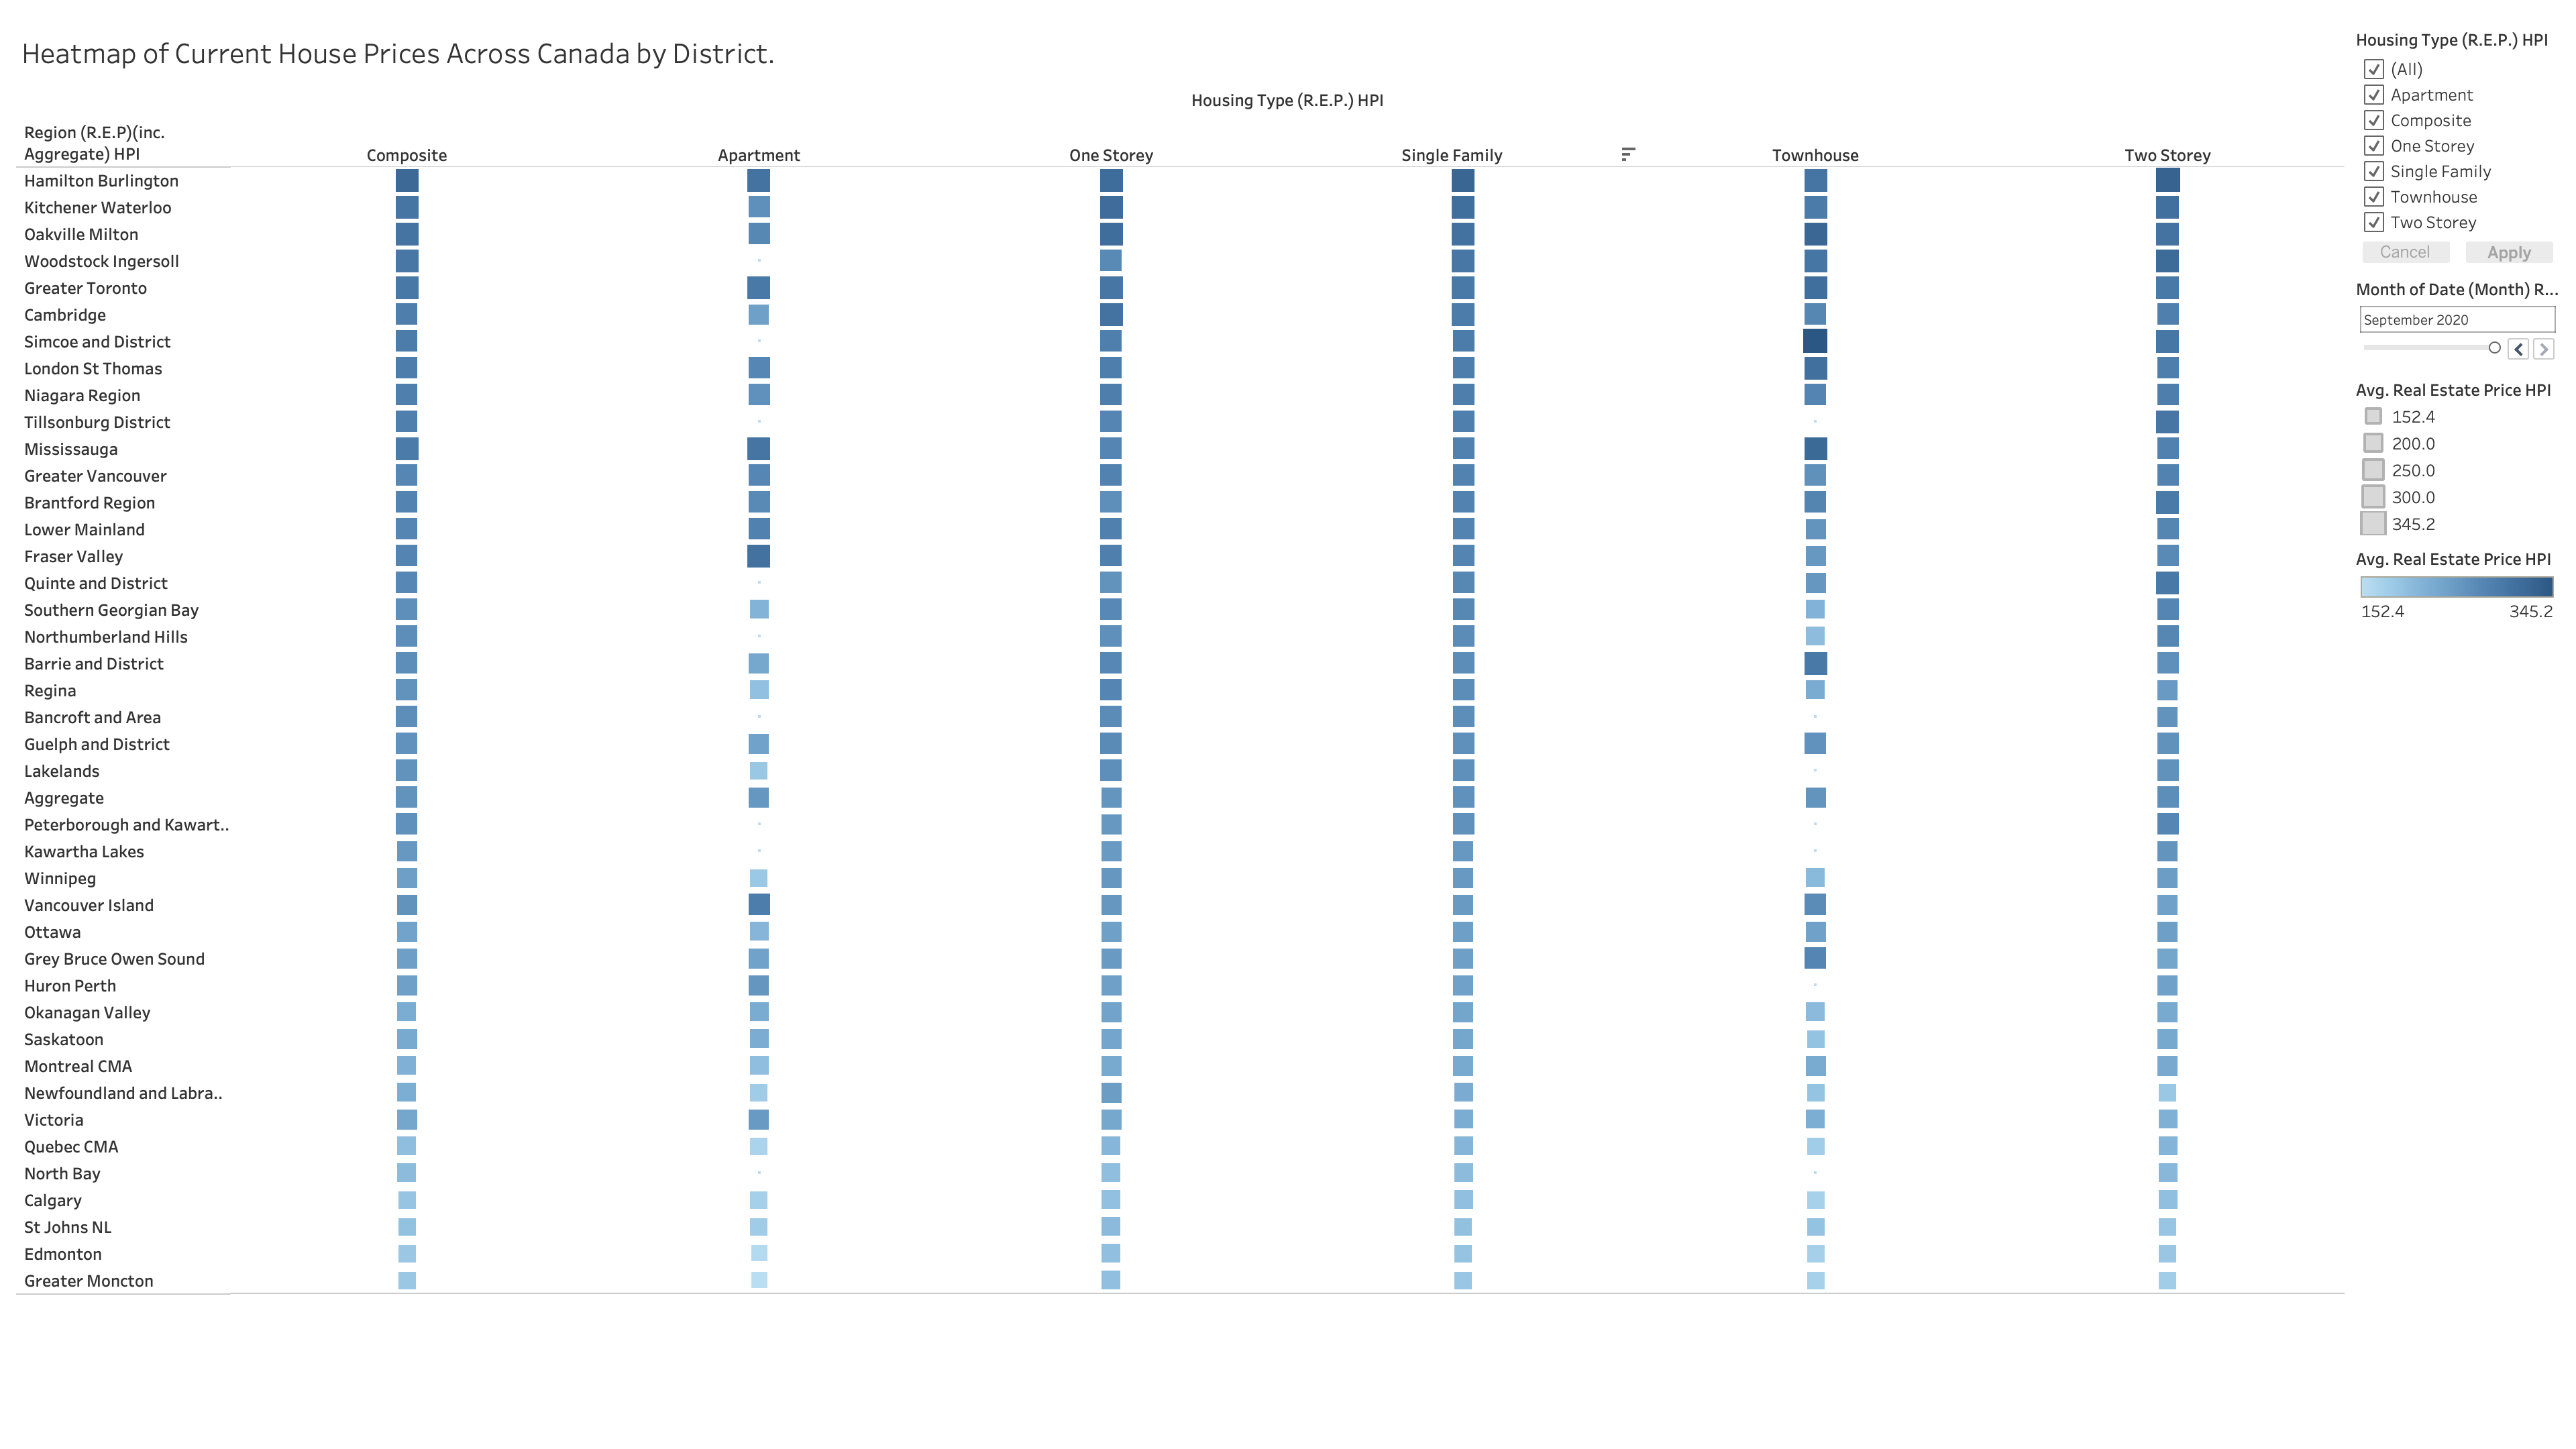

Layout of this report page (visuals, bound fields, positions):
{"tool":"tableau","page":{"name":"Dashboard Q4","canvas":[1920,1080],"ordinal":5},"visuals":[{"type":"worksheet","title":"Heatmap of Current House Prices Across Canada by District.","mark":"Automatic","rows":["Region (R.E.P)(inc. Aggregate) HPI"],"cols":["Housing Type (R.E.P.) HPI"],"box":[8,8,1744,1064]},{"type":"filter","title":"Heatmap of Current House Prices Across Canada by District.","param":"[federated.0h3vvpx1g9mxug19i74591ak7h1p].[none:Housing Type (R.E.P.) HPI:nk]","box":[1752,8,160,186]},{"type":"filter","title":"Heatmap of Current House Prices Across Canada by District.","param":"[federated.0h3vvpx1g9mxug19i74591ak7h1p].[tmn:Date (Month) R.E.P. HPI:ok]","box":[1752,194,160,75]},{"type":"legend","title":"Heatmap of Current House Prices Across Canada by District.","param":"[federated.0h3vvpx1g9mxug19i74591ak7h1p].[avg:Real Estate Price HPI:qk]","box":[1752,269,160,126]},{"type":"legend","title":"Heatmap of Current House Prices Across Canada by District.","param":"[federated.0h3vvpx1g9mxug19i74591ak7h1p].[avg:Real Estate Price HPI:qk]","box":[1752,395,160,65]}]}

Visuals, with their boxes in screenshot pixels (x1, y1, x2, y2), scaled from the page's 1920x1080 canvas onto the 2576x1449 screenshot:
"Heatmap of Current House Prices Across Canada by District." worksheet: 11:11:2351:1438
"Heatmap of Current House Prices Across Canada by District." filter: 2351:11:2565:260
"Heatmap of Current House Prices Across Canada by District." filter: 2351:260:2565:361
"Heatmap of Current House Prices Across Canada by District." legend: 2351:361:2565:530
"Heatmap of Current House Prices Across Canada by District." legend: 2351:530:2565:617
